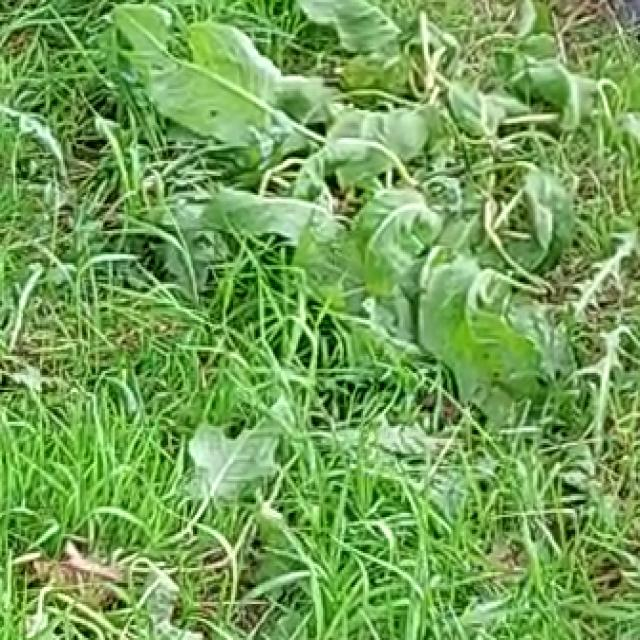organic waste: (138, 0, 630, 458)
